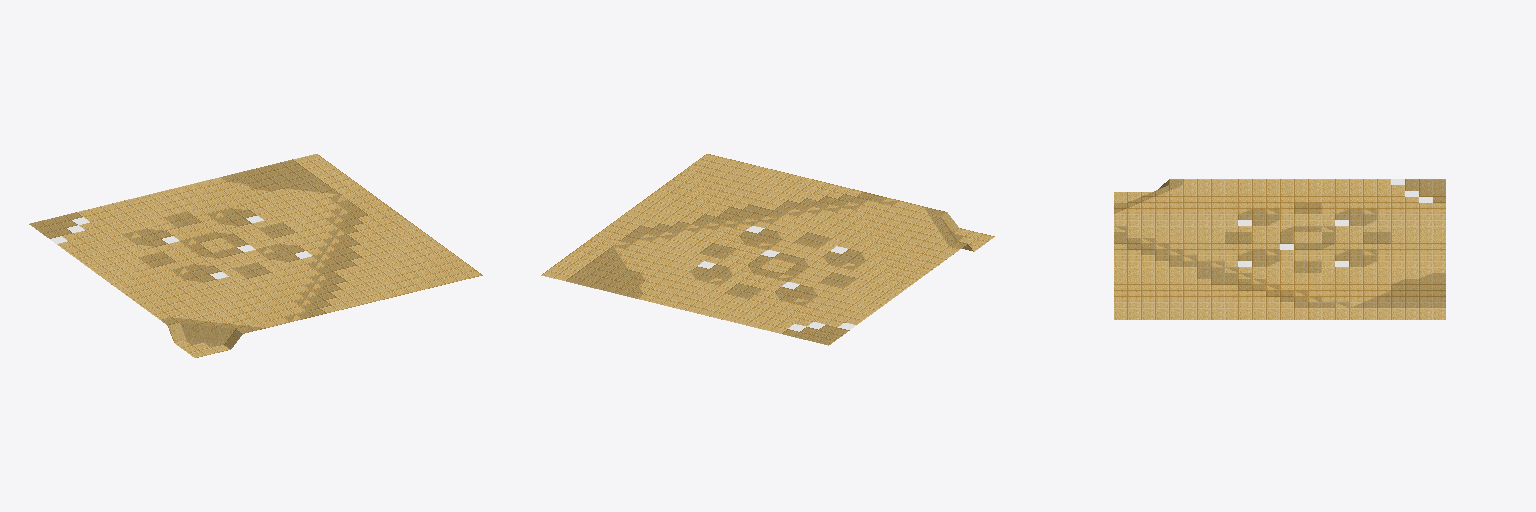
3 renders of one model, left to right at view 1: azimuth 30°, elevation 25°; view 2: azimuth 150°, elevation 25°; view 3: azimuth 270°, elevation 25°, orthographic.
Parts seen in each view (by area): view 1: FloorCorner_2; view 2: FloorCorner_2; view 3: FloorCorner_2.
Boxes of the visible parts, box(x1,y1,x2,y2) form: FloorCorner_2: box(29, 154, 482, 357); FloorCorner_2: box(541, 154, 994, 345); FloorCorner_2: box(1114, 179, 1445, 319).
Bounding box in the file's own units: 24 × 1.01 × 24.
8 materials, 7 textured.